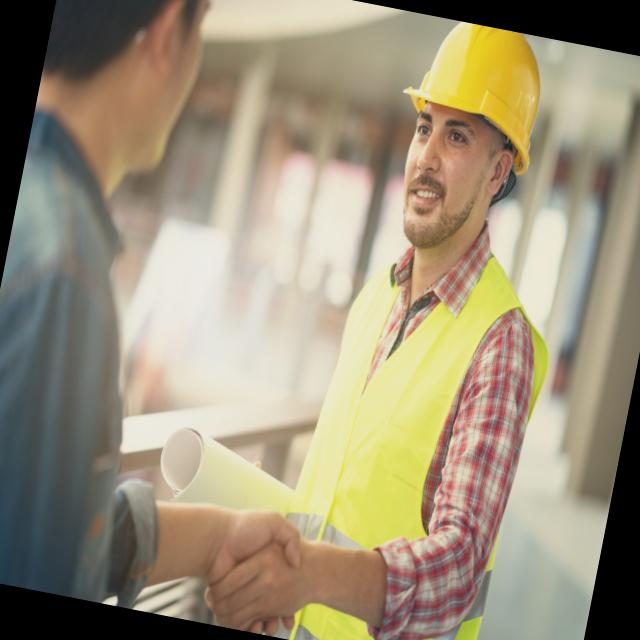helmet: (394, 12, 552, 144)
no-goggles: (408, 112, 522, 165)
vest: (245, 217, 571, 640)
